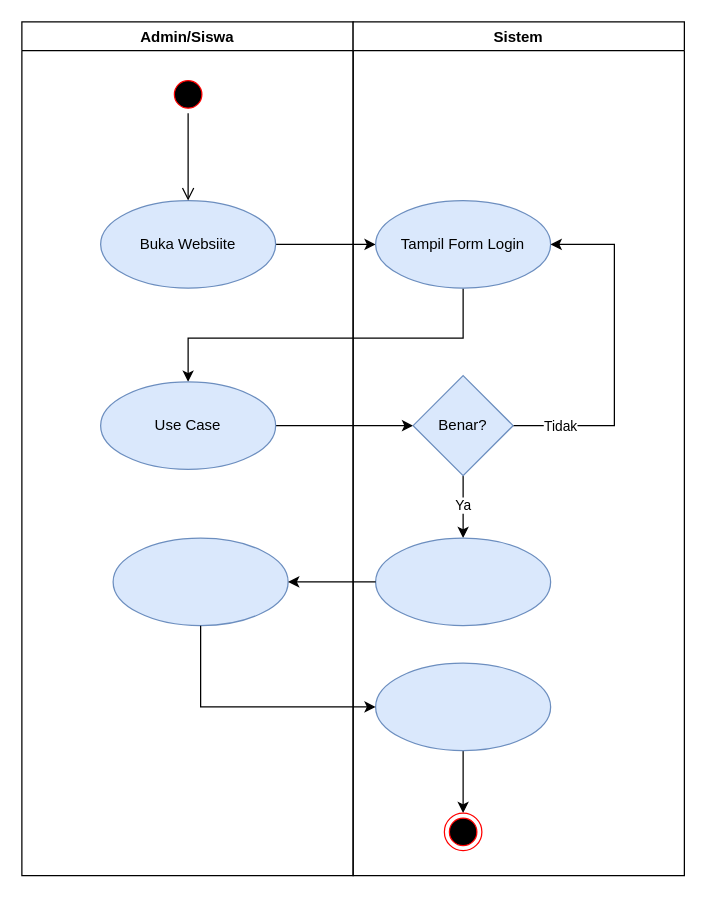
The diagram is 706 pixels wide and 898 high, and some of its shapes have lost their labels. Each missing label, with the centre of its shape:
Info Akun: point (200, 581)
Menampilkan Menu Jadwal Olimpiade: point (462, 706)
Tampil Menu Utama: point (462, 581)
